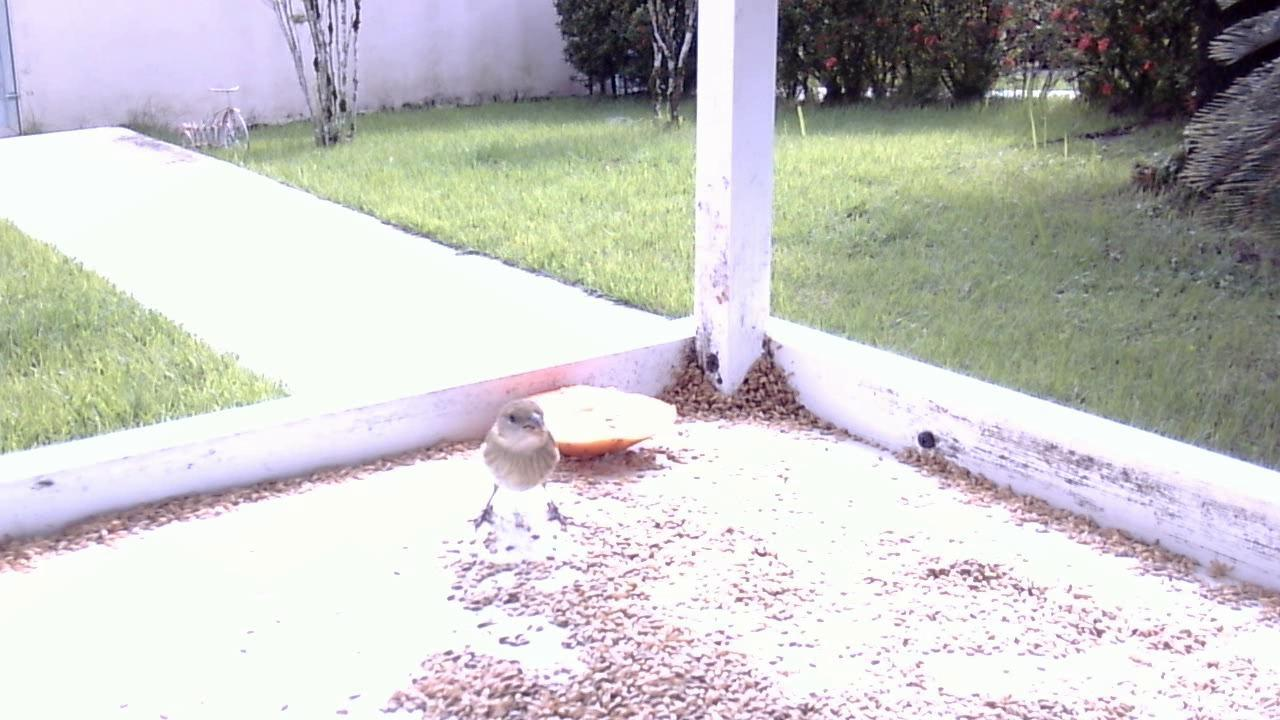canario_do_amazonas: (465, 395, 567, 537)
